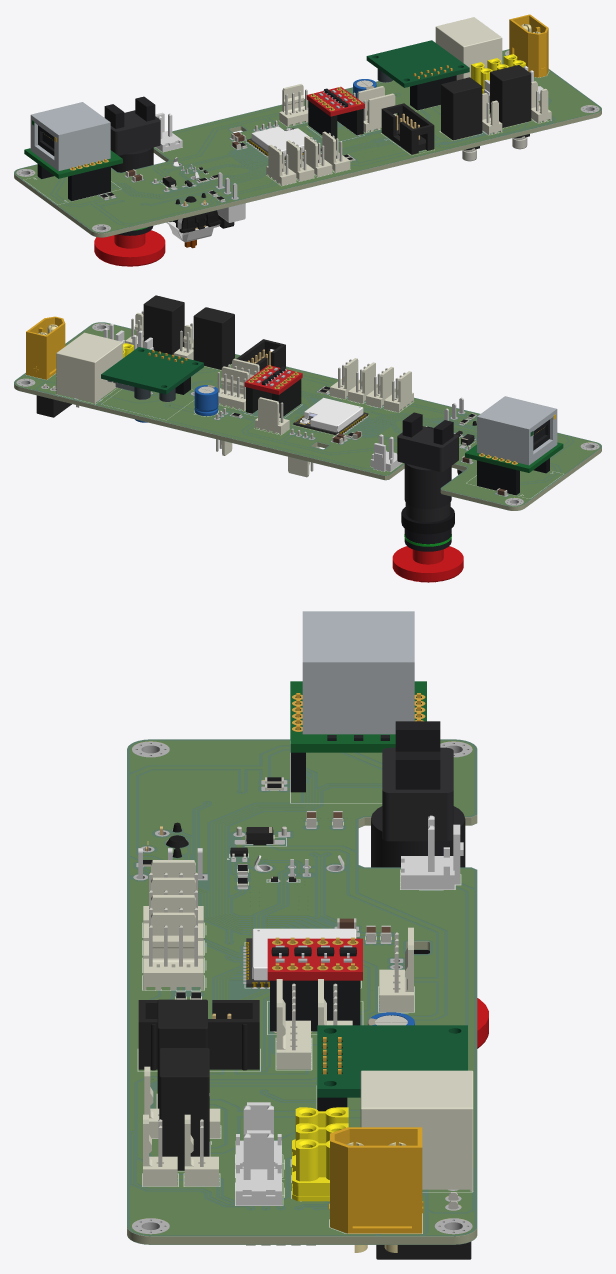
File: main-board.glb
The picture shows the model from 3 angles, top to bottom: view 1: azimuth 30°, elevation 25°; view 2: azimuth 150°, elevation 25°; view 3: azimuth 270°, elevation 25°; orthographic projection. The views are drawn at different scales.
Visible parts, largest first — view 1: =>[0:1:1:36], =>[0:1:1:31], RJ45_metal_shield, =>[0:1:1:38], Pololu_D36V50F5_PCB_25p4x25p4, K2, U7, U8, J100, J5, 01_Tete_rouge_D24, 08_Bloc_contacts_2NF_approximatif (+24 smaller); view 2: =>[0:1:1:36], =>[0:1:1:31], RJ45_metal_shield, K2, =>[0:1:1:38], Pololu_D36V50F5_PCB_25p4x25p4, U7, U8, J5, 08_Bloc_contacts_2NF_approximatif, 06_Corps_filete_simplifie, 01_Tete_rouge_D24 (+25 smaller); view 3: =>[0:1:1:36], =>[0:1:1:31], =>[0:1:1:38], RJ45_metal_shield, J5, K2, Pololu_D36V50F5_PCB_25p4x25p4, U8, J100, 08_Bloc_contacts_2NF_approximatif, J24, =>[0:1:1:32] (+23 smaller).
Boxes of the visible parts, x1,y1,x2,y2 form: =>[0:1:1:36]: [14, 49, 601, 233]; =>[0:1:1:31]: [16, 51, 596, 230]; RJ45_metal_shield: [30, 102, 110, 170]; =>[0:1:1:38]: [14, 70, 601, 237]; Pololu_D36V50F5_PCB_25p4x25p4: [366, 40, 469, 87]; K2: [435, 17, 502, 80]; U7: [441, 77, 482, 140]; U8: [490, 65, 531, 127]; J100: [381, 103, 434, 154]; J5: [509, 14, 548, 77]; 01_Tete_rouge_D24: [94, 230, 165, 266]; 08_Bloc_contacts_2NF_approximatif: [110, 110, 160, 155]; =>[0:1:1:36]: [14, 322, 601, 506]; =>[0:1:1:31]: [20, 323, 597, 504]; RJ45_metal_shield: [477, 396, 557, 465]; K2: [56, 332, 122, 407]; =>[0:1:1:38]: [14, 324, 601, 510]; Pololu_D36V50F5_PCB_25p4x25p4: [101, 347, 203, 394]; U7: [193, 307, 234, 369]; U8: [143, 295, 184, 354]; J5: [26, 316, 65, 379]; 08_Bloc_contacts_2NF_approximatif: [397, 426, 458, 471]; 06_Corps_filete_simplifie: [404, 463, 451, 509]; 01_Tete_rouge_D24: [392, 546, 463, 582]; =>[0:1:1:36]: [127, 739, 477, 1236]; =>[0:1:1:31]: [130, 741, 473, 1234]; =>[0:1:1:38]: [127, 740, 477, 1244]; RJ45_metal_shield: [302, 611, 414, 734]; J5: [329, 1127, 423, 1252]; K2: [360, 1070, 473, 1191]; Pololu_D36V50F5_PCB_25p4x25p4: [317, 1025, 467, 1097]; U8: [159, 1048, 209, 1170]; J100: [138, 1000, 259, 1070]; 08_Bloc_contacts_2NF_approximatif: [382, 747, 453, 841]; J24: [143, 912, 203, 989]; =>[0:1:1:32]: [132, 741, 472, 1234].
Bounding box in the file's own units: 0.198 × 0.0605 × 0.0609.
